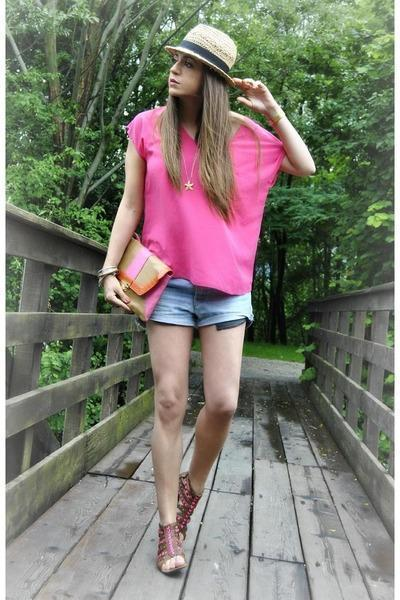bag: (108, 228, 193, 319)
hat: (167, 21, 236, 83)
shirt: (122, 101, 276, 295)
shoe: (151, 492, 209, 571)
shorts: (136, 279, 251, 343)
